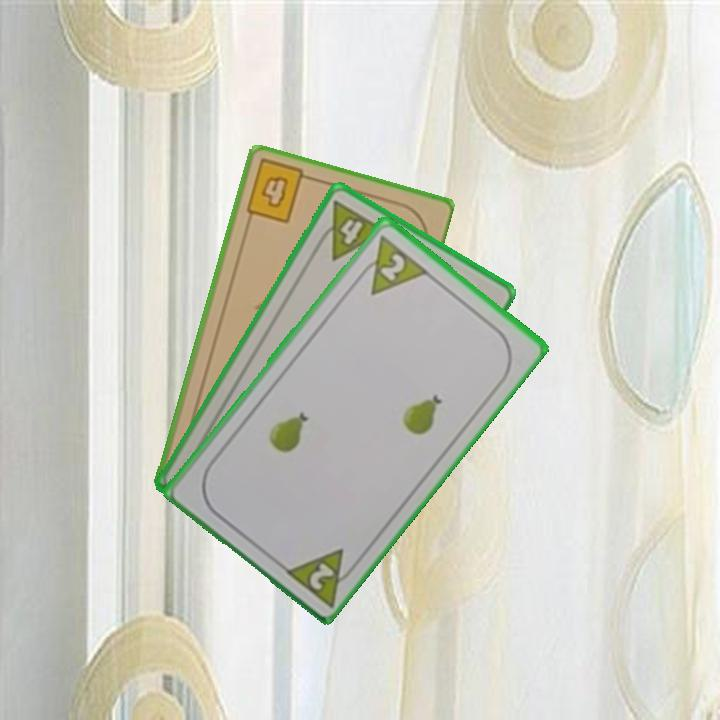2p: (279, 543, 361, 608), (351, 231, 430, 298)
4b: (242, 157, 316, 227)
4p: (310, 196, 389, 263)
